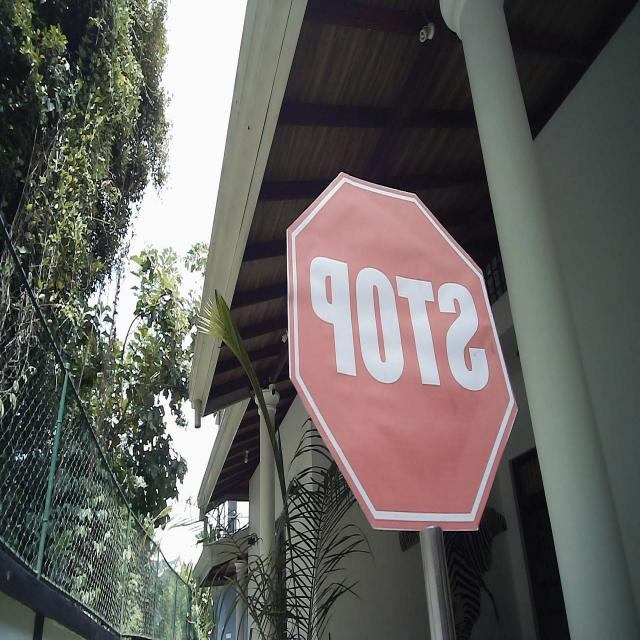stop: (285, 168, 520, 536)
